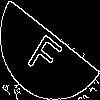F: (25, 25, 69, 79)
